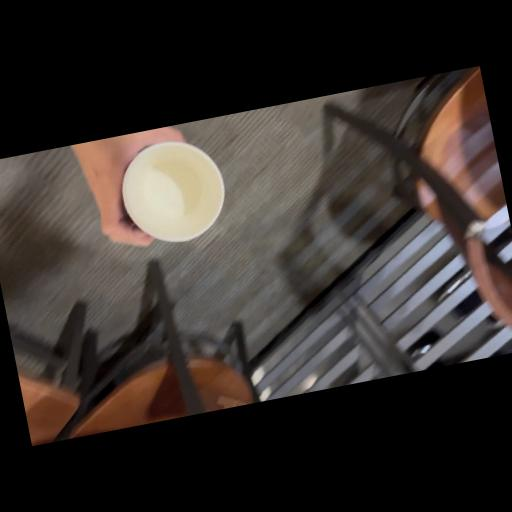lp_paper_cup: (114, 132, 234, 252)
